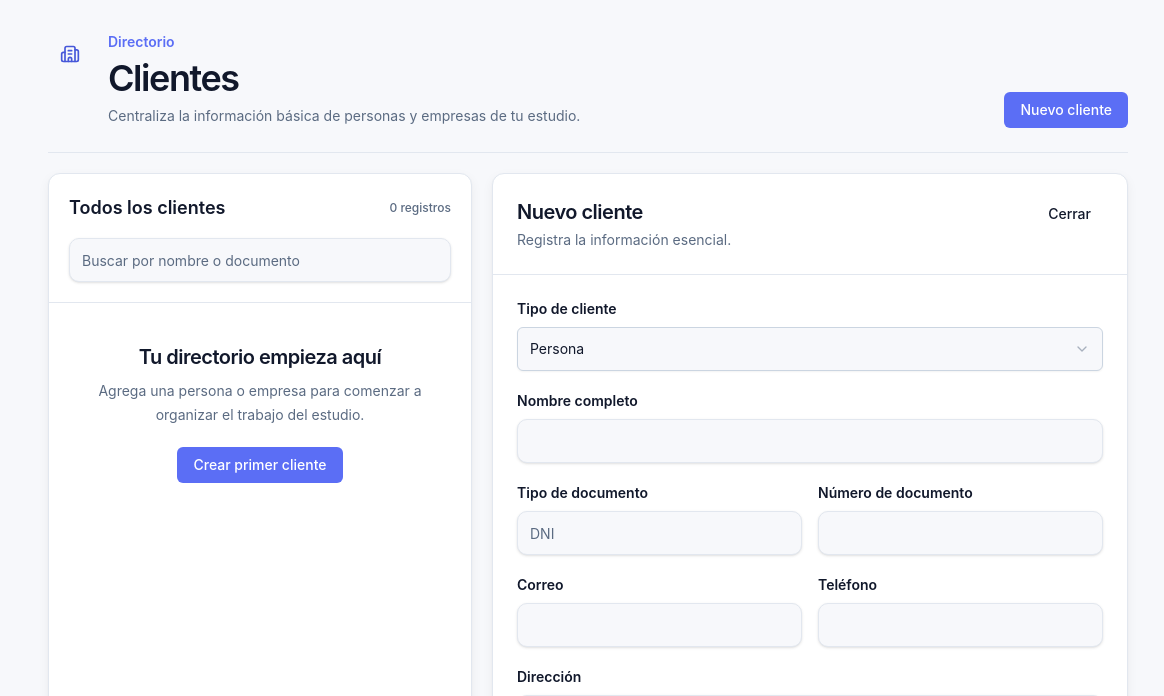
Scenario: ClientsPage › opens and closes client creation through action=create
Expected: the heading "Nuevo cliente" is shown, 517,200 -> 643,224
Step 1. Click the button "Cerrar" → (1070, 214), box 1036,198 -> 1103,230
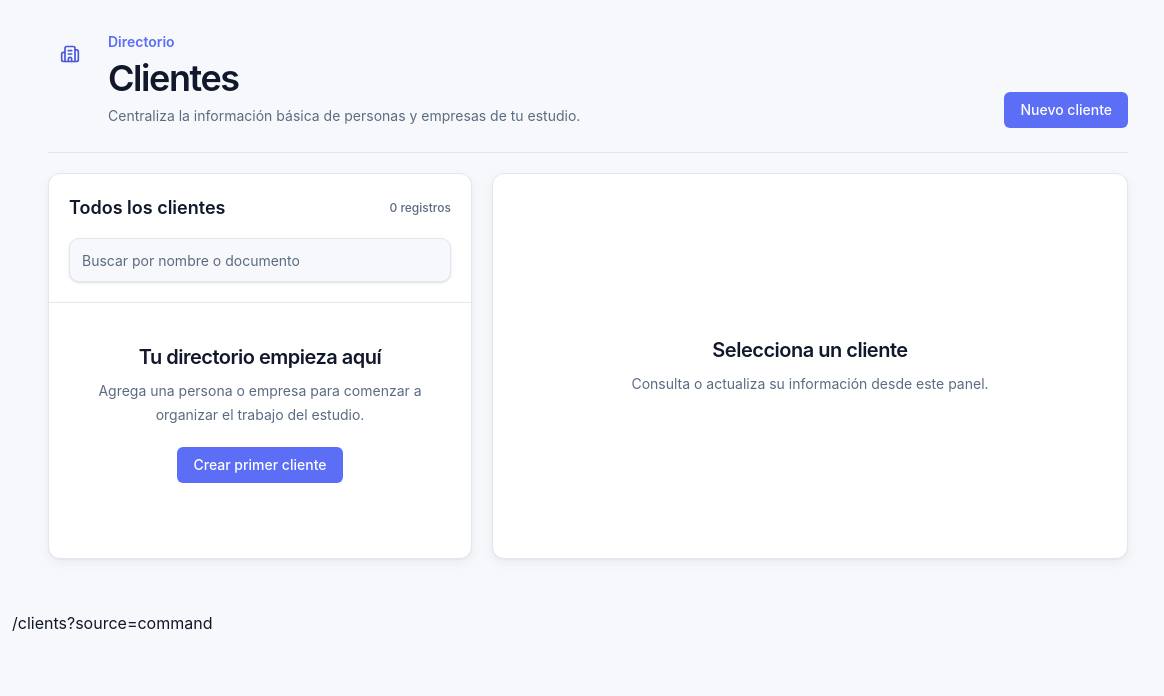
Now the text named "Ruta actual" reads "/clients?source=command", box 12,613 -> 212,633
